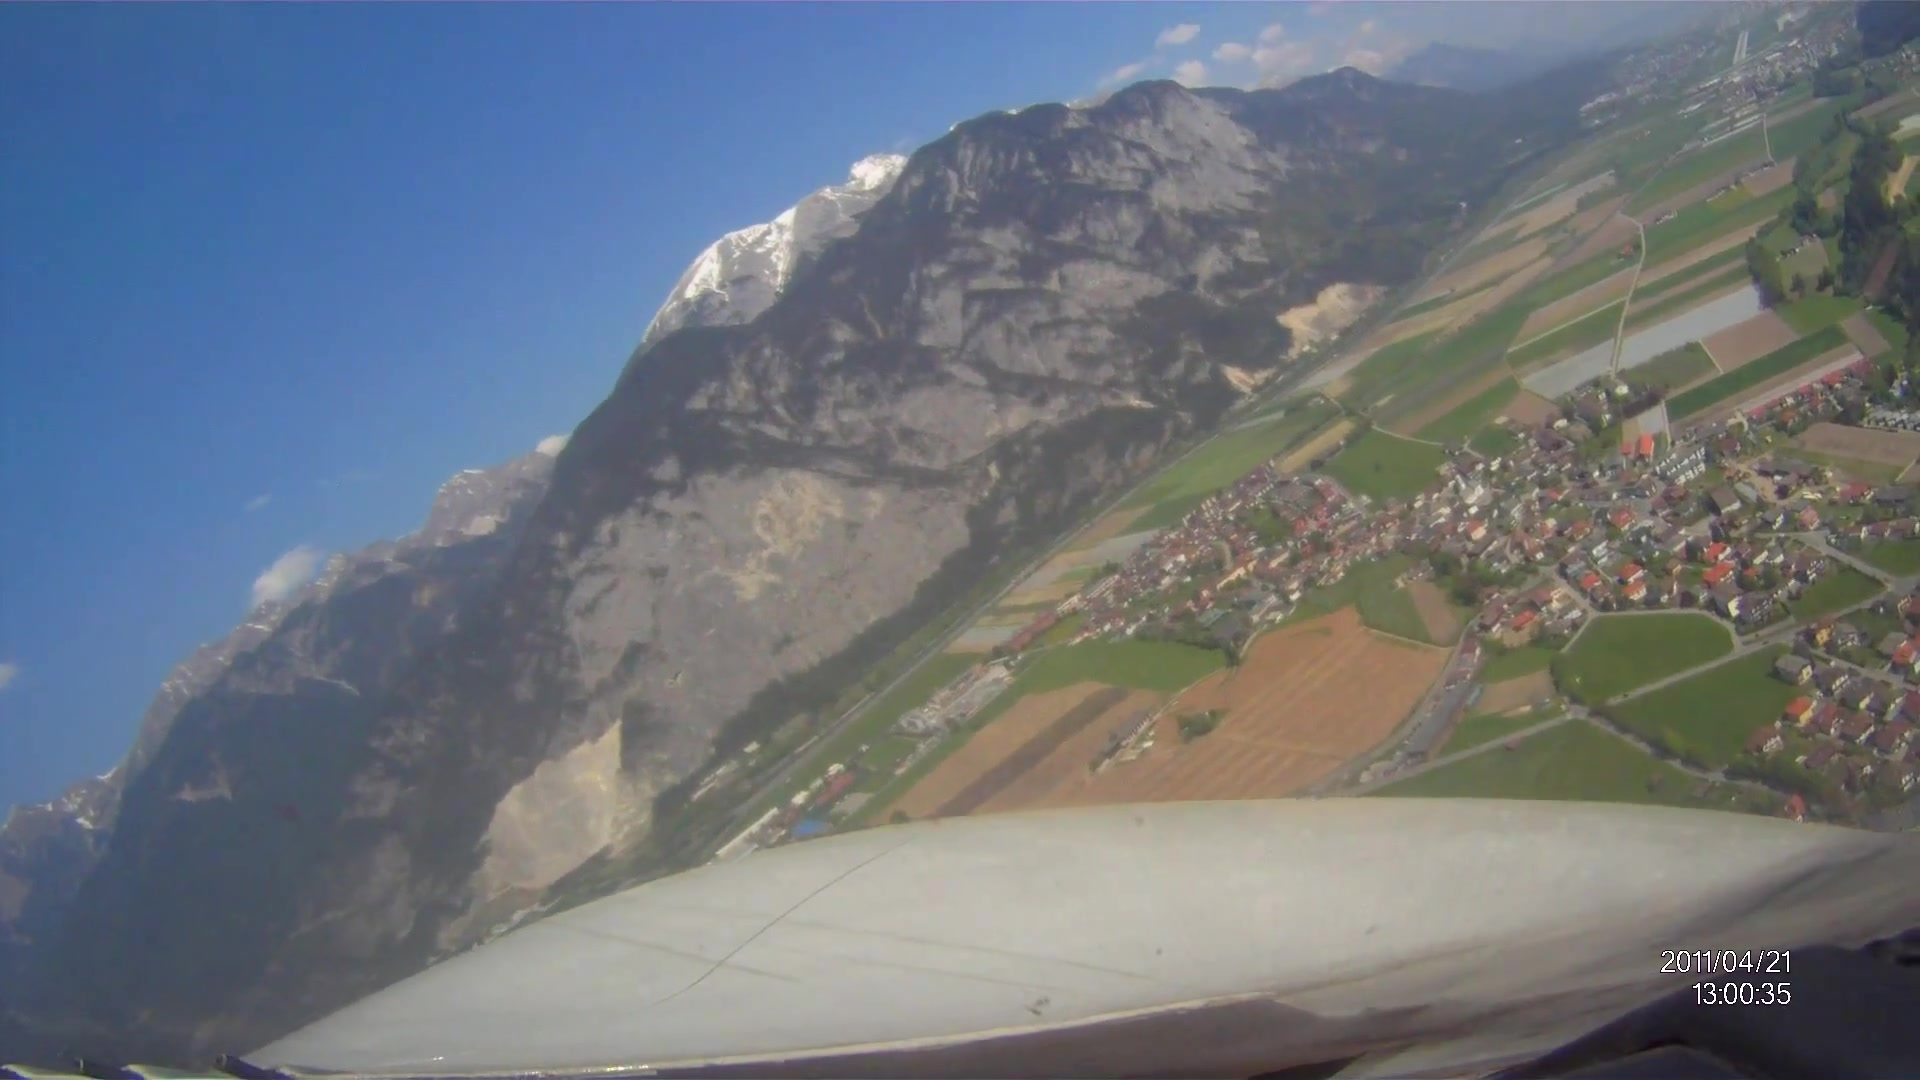runway: (1729, 28, 1750, 67)
